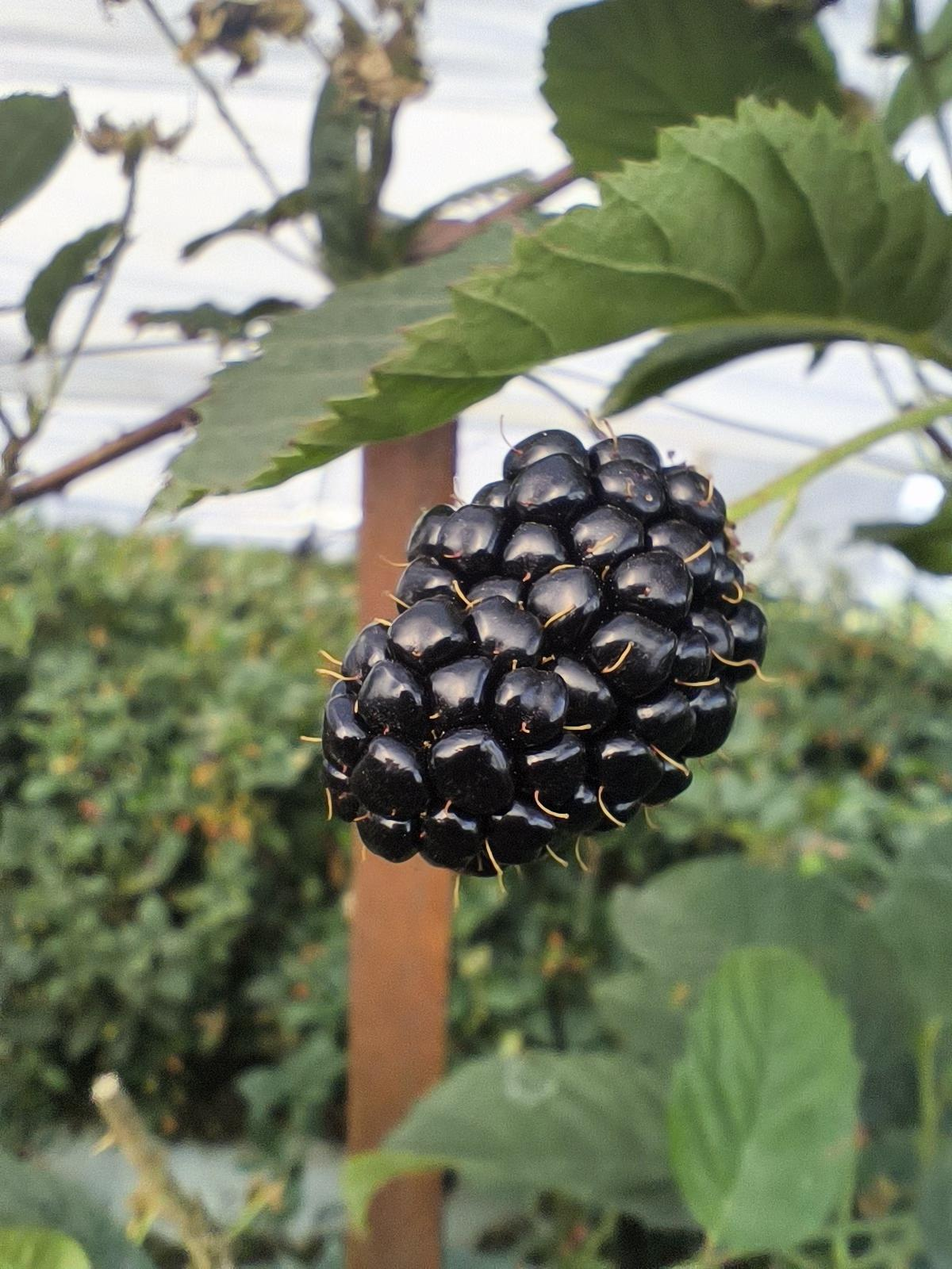maduro: (316, 427, 758, 874)
